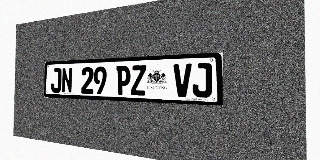2: (81, 67, 94, 94)
9: (94, 66, 107, 94)
J: (192, 63, 212, 98), (51, 68, 61, 93)
N: (61, 67, 73, 93)
P: (116, 65, 131, 95)
V: (173, 63, 192, 97)
Z: (131, 65, 146, 96)
